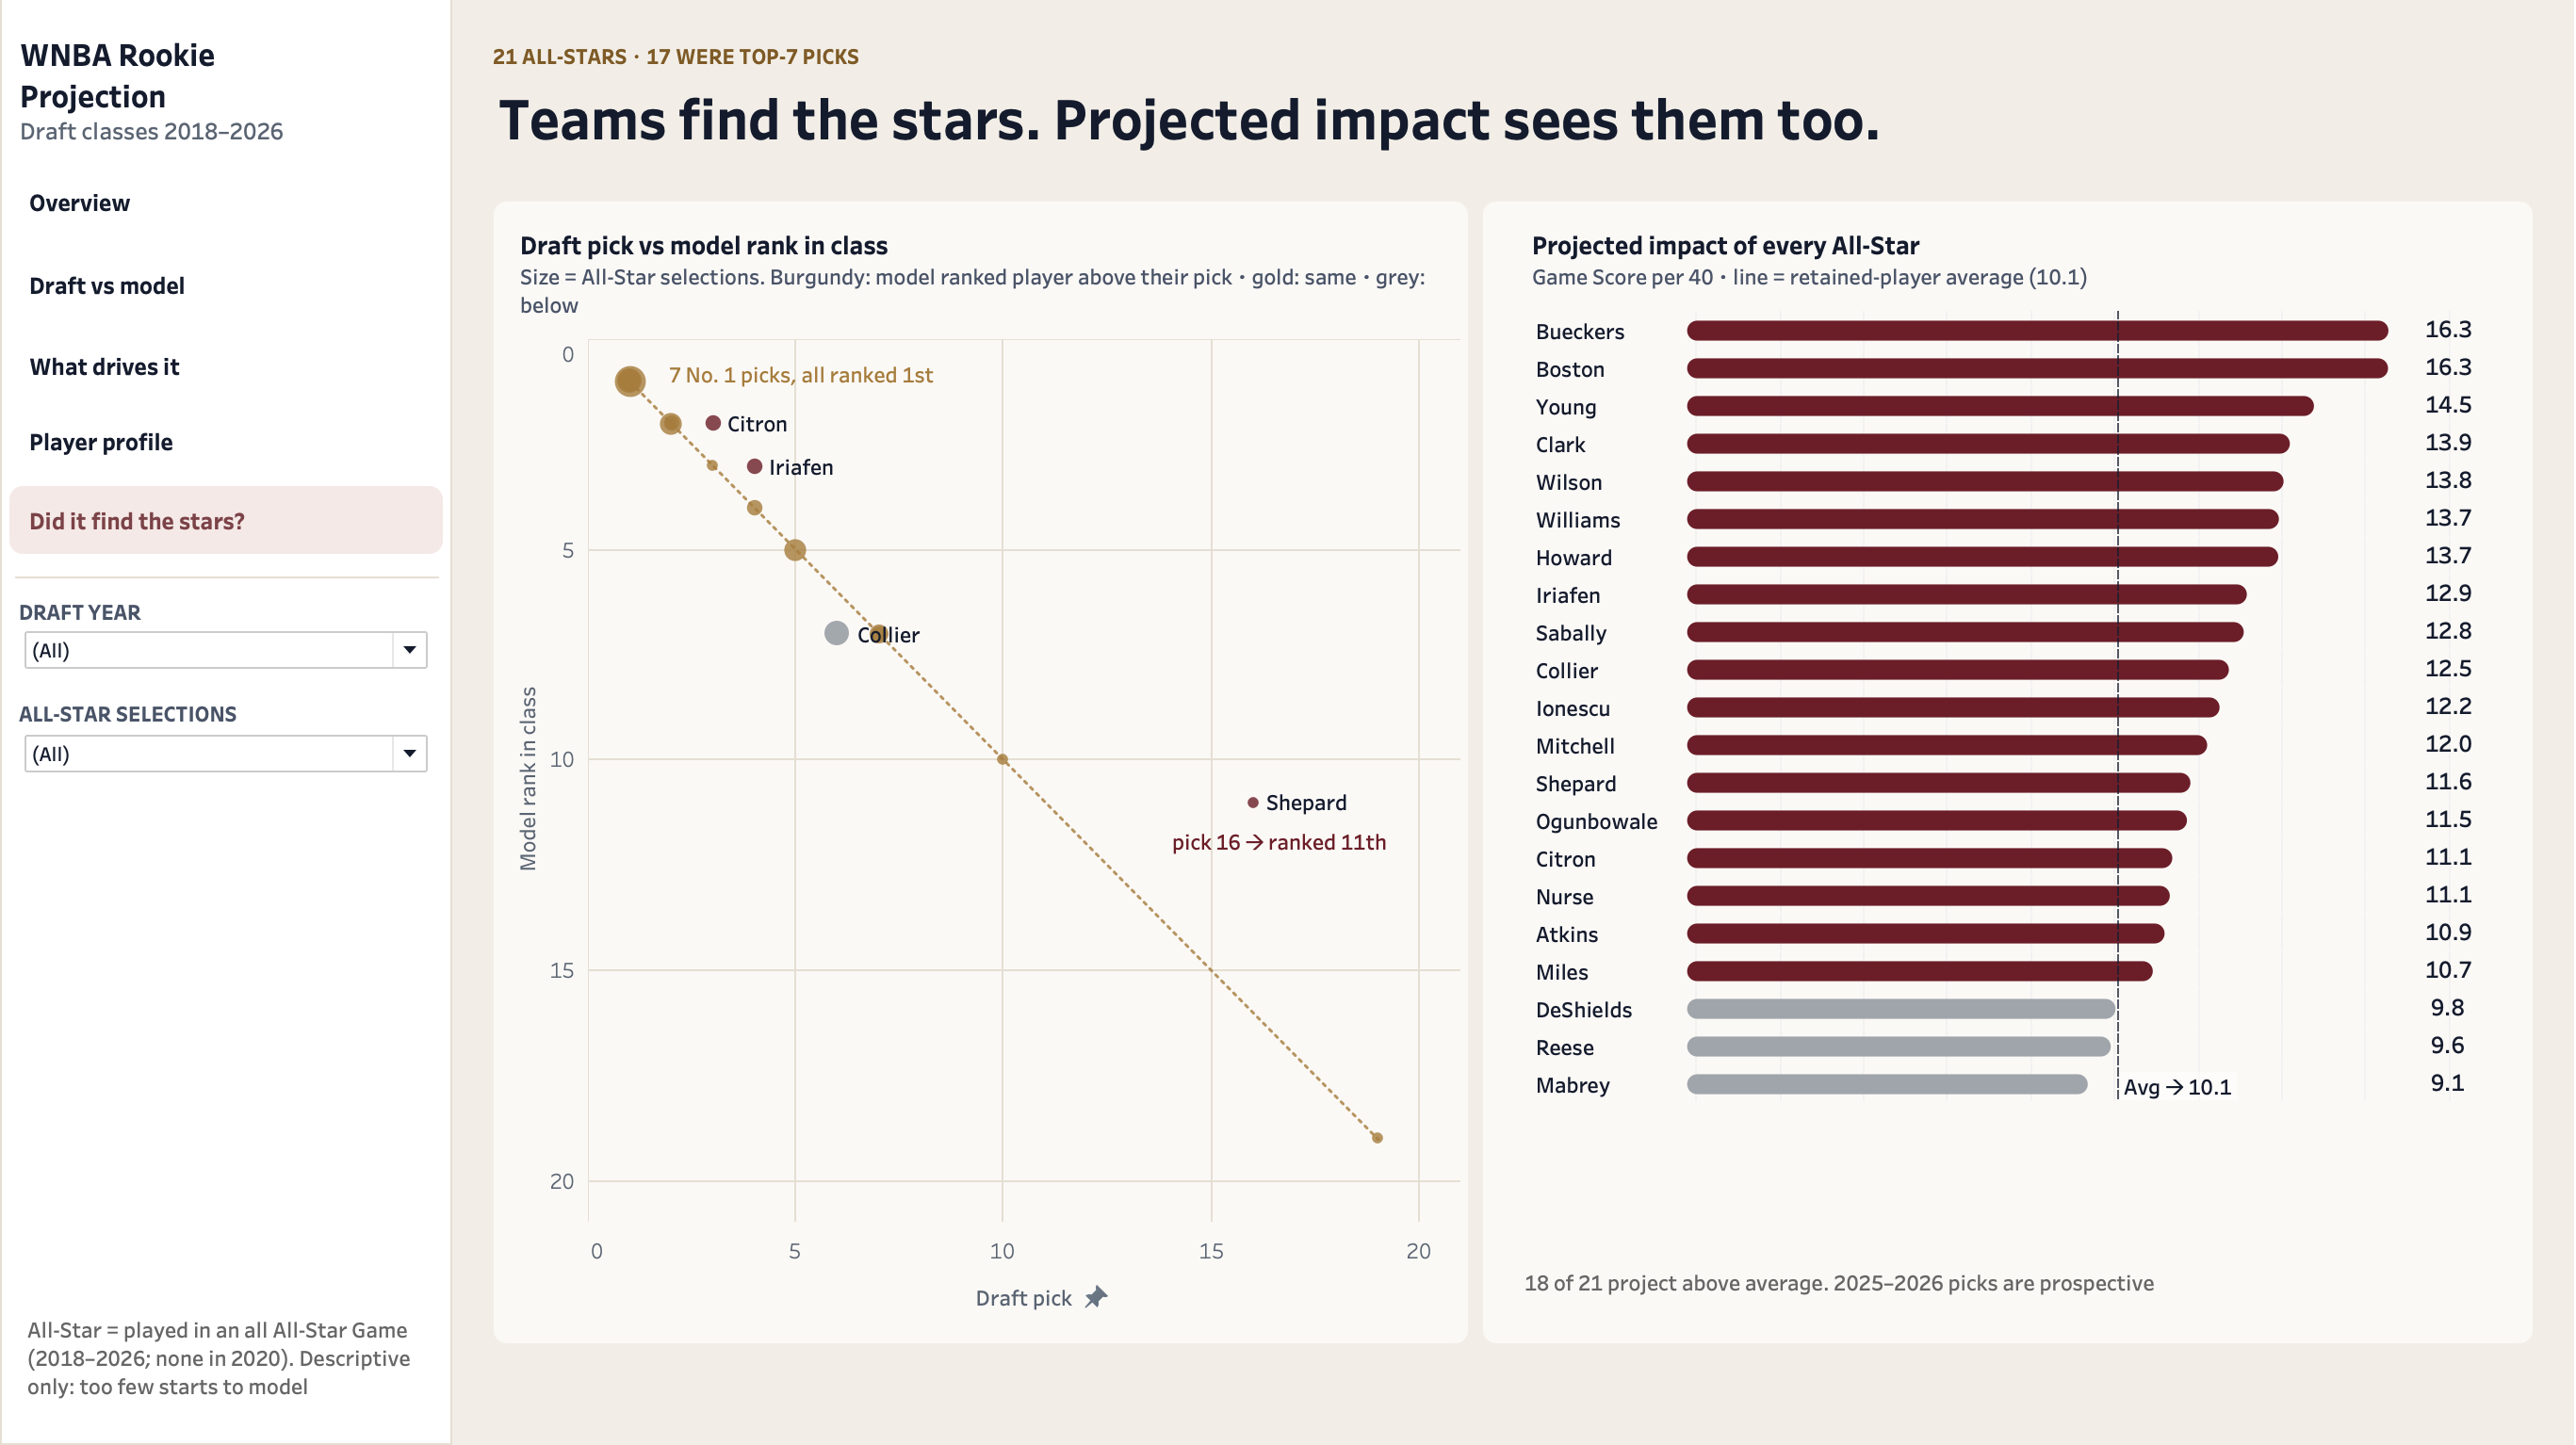

This screenshot's page, from the dashboard's own definition file:
{"tool":"tableau","page":{"name":"Stars","canvas":[1366,768],"ordinal":3},"visuals":[{"type":"text","box":[240,0,1126,40]},{"type":"text","box":[1,1,238,85]},{"type":"legend","title":"Star rank","param":"[federated.1tov7ef0a1y3je15hmmro1g4q6js].[sum:All-Star Selections:qk]","box":[1198,8,160,124]},{"type":"text","box":[240,40,1126,46]},{"type":"text","box":[1,86,238,44]},{"type":"dashboard-object","box":[7,90,229,38]},{"type":"worksheet","title":"Star rank","mark":"Automatic","rows":["Model Rank in Class","Calculation_1981856026075157"],"cols":["Pick"],"box":[258,104,525,614]},{"type":"worksheet","title":"Stars impact","mark":"Line","rows":["Player","Calculation_1981856080375835"],"cols":["Calculation_1981856078499866"],"box":[783,104,565,614]},{"type":"text","box":[1,130,238,44]},{"type":"legend","title":"Star rank","param":"[federated.1tov7ef0a1y3je15hmmro1g4q6js].[none:Calculation_1981856025612308:nk]","box":[1198,132,160,84]},{"type":"dashboard-object","box":[5,134,229,38]},{"type":"text","box":[1,174,238,42]},{"type":"dashboard-object","box":[5,178,229,38]},{"type":"text","box":[1,216,238,39]},{"type":"dashboard-object","box":[5,216,229,39]},{"type":"legend","title":"Stars impact","param":"[federated.1tov7ef0a1y3je15hmmro1g4q6js].[usr:Calculation_1981856072237079:nk]","box":[1198,216,160,66]},{"type":"text","box":[1,255,238,44]},{"type":"dashboard-object","box":[5,255,229,45]},{"type":"filter","title":"Star rank","param":"[federated.1tov7ef0a1y3je15hmmro1g4q6js].[none:Draft Year:ok]","box":[1,299,238,69]},{"type":"blank","box":[8,307,225,1]},{"type":"filter","title":"Star rank","param":"[federated.1tov7ef0a1y3je15hmmro1g4q6js].[none:All-Star Selections:ok]","box":[1,368,238,65]},{"type":"text","box":[1,695,238,53]}]}

Visuals, with their boxes in screenshot pixels (x1, y1, x2, y2), scaled from the page's 1366x768 canvas onto the 2576x1445 screenshot:
text: [x1=452, y1=0, x2=2575, y2=75]
text: [x1=2, y1=2, x2=450, y2=162]
"Star rank" legend: [x1=2259, y1=15, x2=2561, y2=249]
text: [x1=452, y1=75, x2=2575, y2=162]
text: [x1=2, y1=162, x2=450, y2=245]
dashboard-object: [x1=13, y1=170, x2=445, y2=241]
"Star rank" worksheet: [x1=486, y1=196, x2=1476, y2=1351]
"Stars impact" worksheet (Line marks): [x1=1476, y1=196, x2=2542, y2=1351]
text: [x1=2, y1=245, x2=450, y2=328]
"Star rank" legend: [x1=2259, y1=249, x2=2561, y2=406]
dashboard-object: [x1=9, y1=252, x2=441, y2=324]
text: [x1=2, y1=328, x2=450, y2=406]
dashboard-object: [x1=9, y1=335, x2=441, y2=406]
text: [x1=2, y1=406, x2=450, y2=479]
dashboard-object: [x1=9, y1=406, x2=441, y2=479]
"Stars impact" legend: [x1=2259, y1=406, x2=2561, y2=530]
text: [x1=2, y1=479, x2=450, y2=562]
dashboard-object: [x1=9, y1=479, x2=441, y2=564]
"Star rank" filter: [x1=2, y1=562, x2=450, y2=692]
blank: [x1=15, y1=577, x2=439, y2=579]
"Star rank" filter: [x1=2, y1=692, x2=450, y2=815]
text: [x1=2, y1=1307, x2=450, y2=1407]
